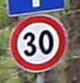limite 30: (8, 14, 67, 72)
